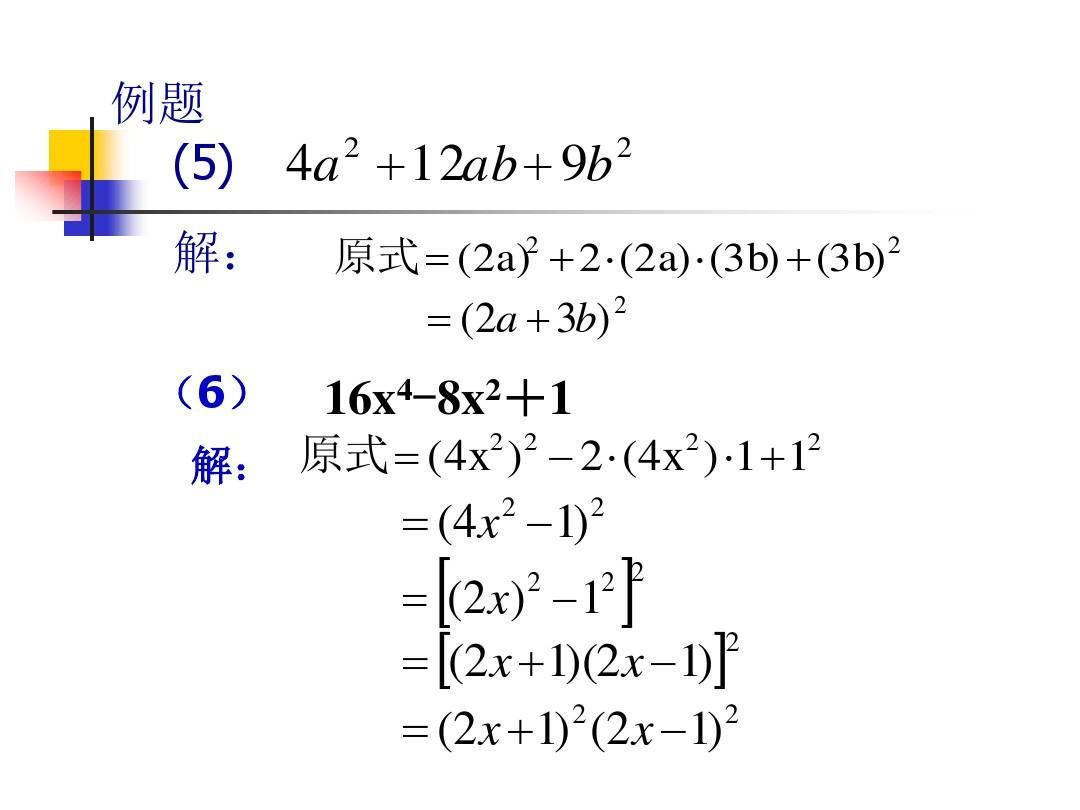square: (613, 136, 636, 161), (342, 136, 366, 159), (567, 700, 589, 725), (520, 231, 538, 259), (723, 630, 741, 656), (521, 431, 541, 454), (484, 375, 501, 402), (488, 428, 504, 455), (588, 494, 604, 521), (598, 568, 615, 593), (523, 571, 542, 593), (721, 704, 741, 724), (499, 494, 515, 518), (629, 560, 645, 584), (887, 231, 901, 258), (805, 429, 820, 453), (687, 431, 701, 452)
